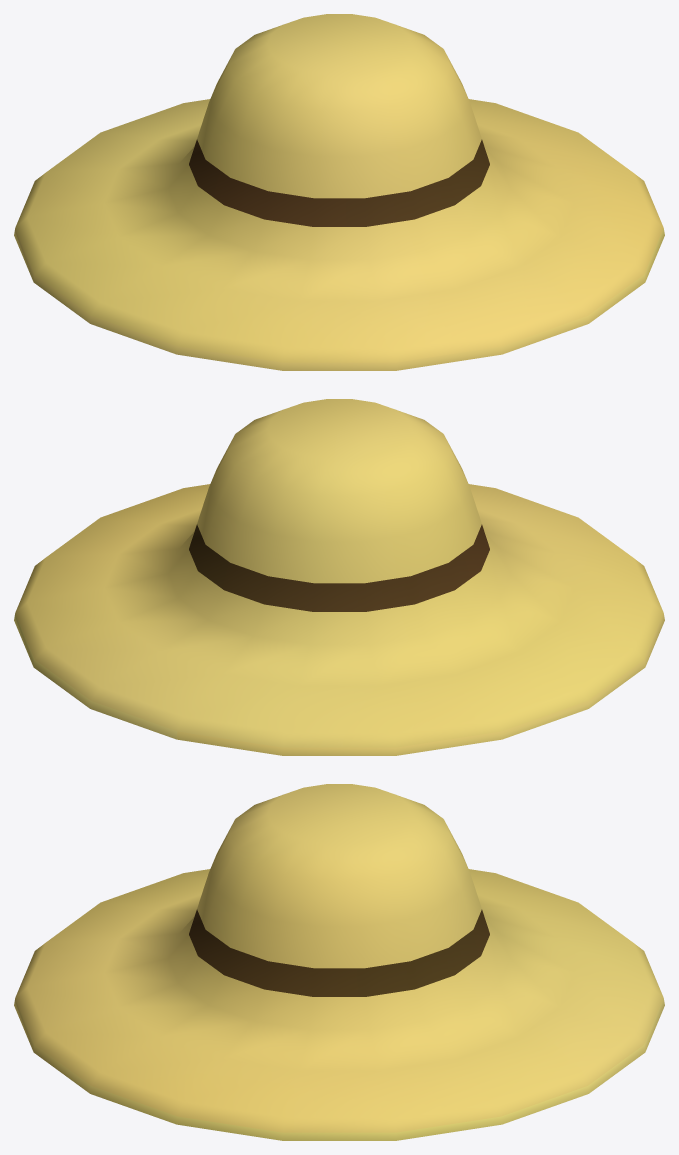
File: BeachHat.glb
3 views of the same model, one above another, from view 1: azimuth 30°, elevation 25°; view 2: azimuth 150°, elevation 25°; view 3: azimuth 270°, elevation 25° (orthographic).
Parts seen in each view (by area): view 1: BeachHat; view 2: BeachHat; view 3: BeachHat.
Part boxes in pixels (left/top/right/bottom): BeachHat: left=14, top=14, right=664, bottom=370; BeachHat: left=14, top=399, right=664, bottom=755; BeachHat: left=14, top=784, right=664, bottom=1140.
Bounding box in the file's own units: 0.5757 × 0.1897 × 0.5845.
Materials: 1 (1 with a texture image).
